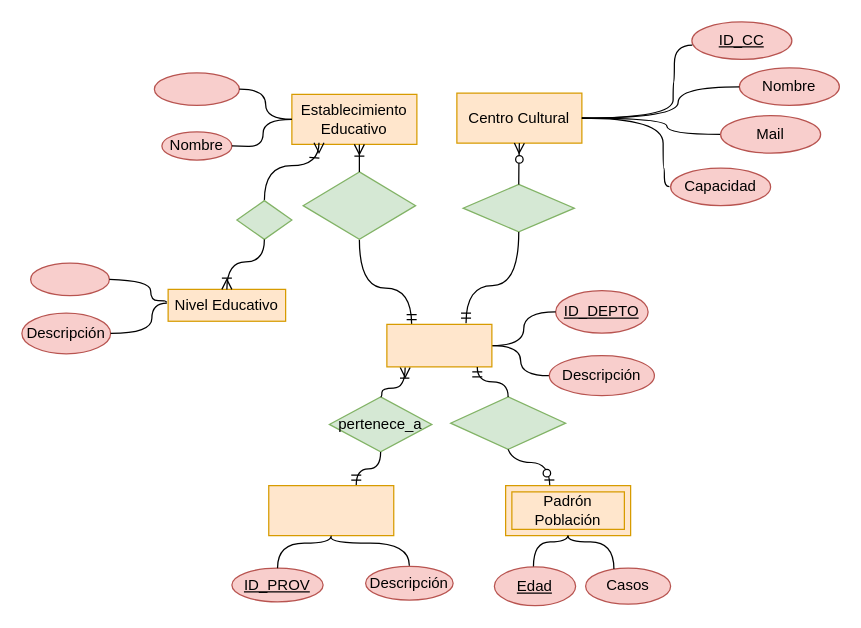
Some shapes in this 861 by 628 pixel diagram are drawn without their labels. Here are the shapes that lost their labels. From the top down, the box of each, then its label:
(153, 72, 239, 105): Cueanexo
(236, 199, 292, 239): tiene
(302, 171, 416, 239): se_localiza_en
(462, 183, 574, 232): ubicado_en
(29, 262, 109, 296): ID_NIVEL
(386, 323, 492, 367): Departamento
(449, 396, 566, 449): posee_un
(268, 484, 394, 536): Provincia
